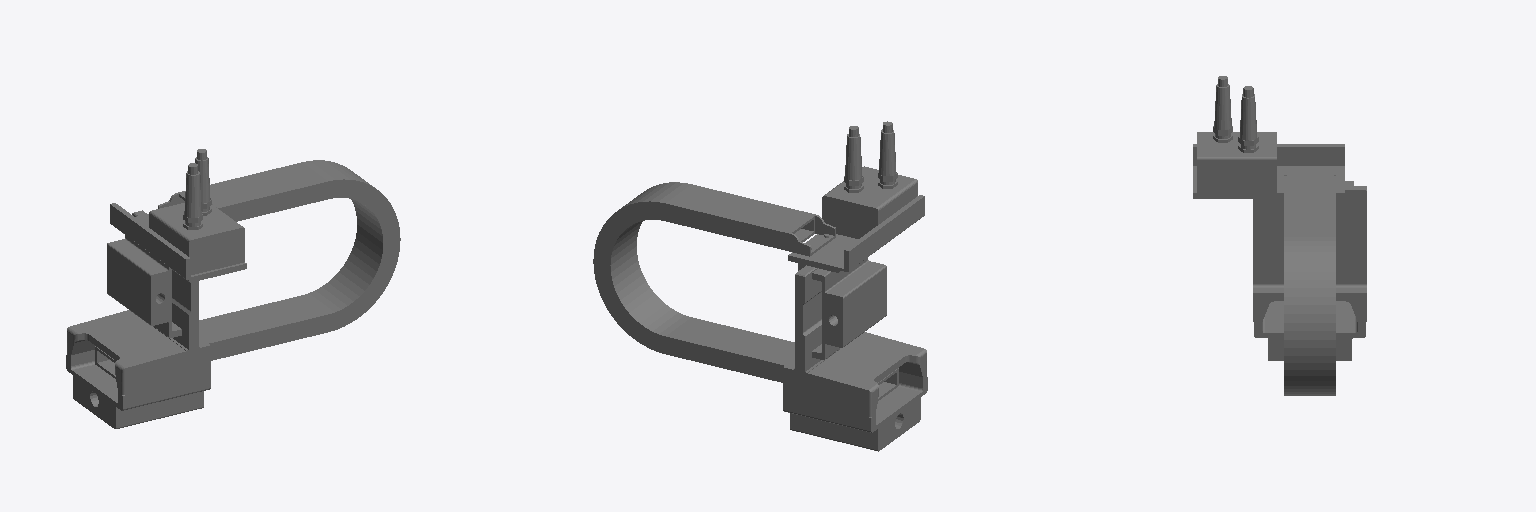
File: Pick_and_Place_Floating_X.obj
3 views of the same model, side by side, from view 1: azimuth 30°, elevation 25°; view 2: azimuth 150°, elevation 25°; view 3: azimuth 270°, elevation 25° (orthographic).
Parts seen in each view (by area): view 1: Salva_i_corpi1_7_; view 2: Salva_i_corpi1_7_; view 3: Salva_i_corpi1_7_.
Boxes of the visible parts, x1=… form: Salva_i_corpi1_7_: x1=66, y1=149, x2=400, y2=428; Salva_i_corpi1_7_: x1=593, y1=121, x2=927, y2=451; Salva_i_corpi1_7_: x1=1193, y1=76, x2=1366, y2=395.
Bounding box in the file's own units: 299 × 262 × 154.